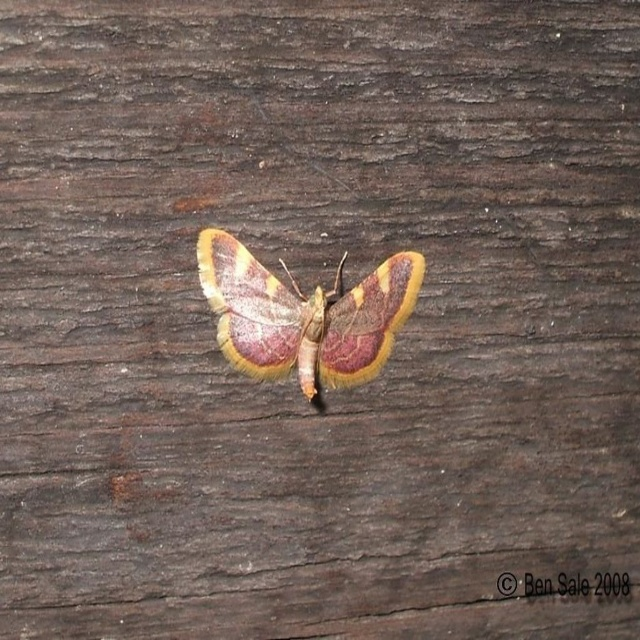Butterfly: (198, 220, 418, 412)
